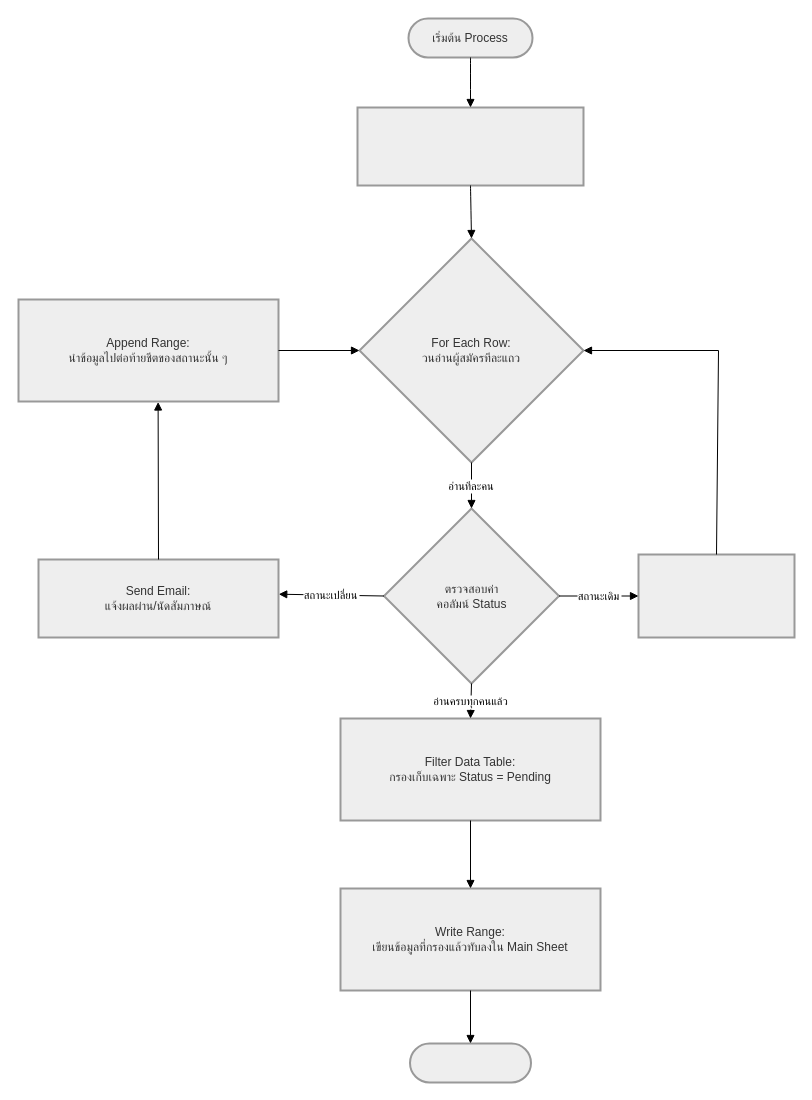
Image size: 812x1100. Some labels were removed from this diagram. The centre of each missing label's shape, as x and y in pixels:
"Read Range: ดึงข้อมูลจาก Main Sheet" belongs at point (470, 146).
"Skip: ไม่ต้องทำอะไร" belongs at point (716, 595).
"สิ้นสุด Process" belongs at point (470, 1062).
